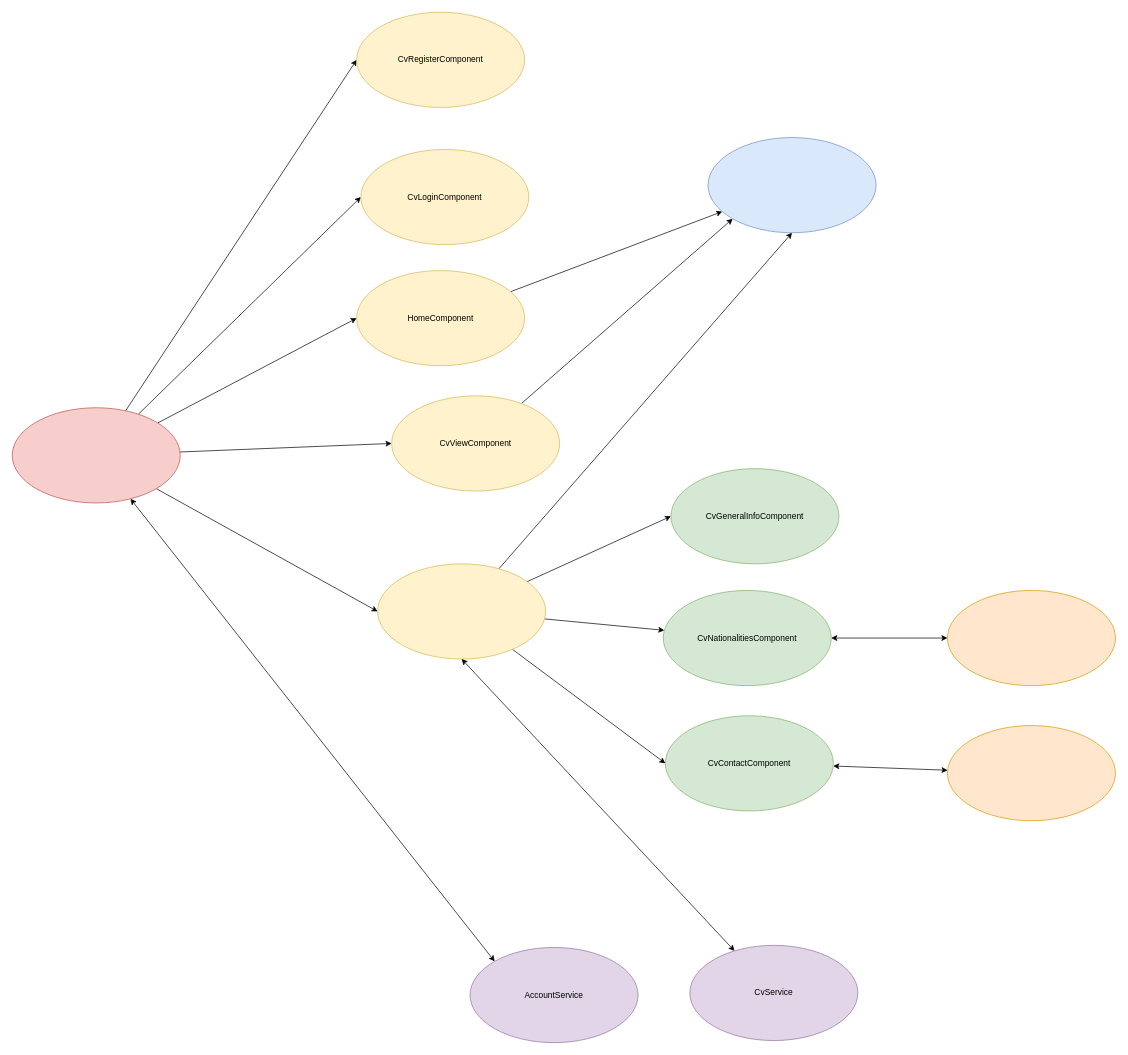
This 1128x1055 diagram has some shape labels left out. Each missing label, with the centre of its shape:
AppComponent: pixel 96 455
AvatarComponent: pixel 791 185
CvContactModalComponent: pixel 1031 638
CvEditorComponent: pixel 461 611
CvNationalitiesModalComponent: pixel 1031 773
